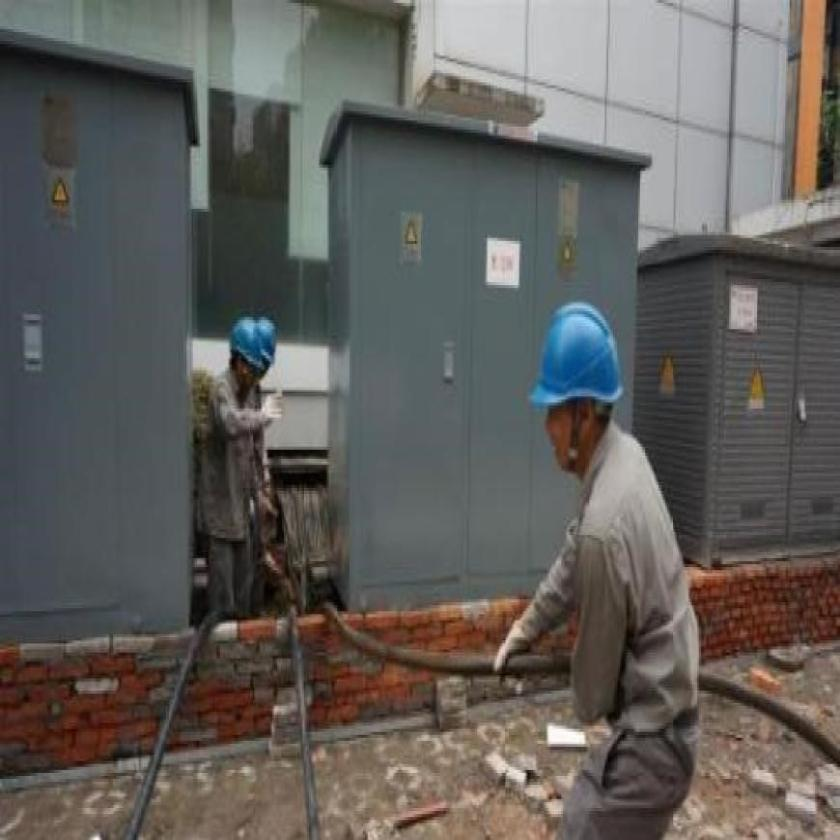Con_casco: (529, 296, 629, 478), (228, 316, 266, 402)
